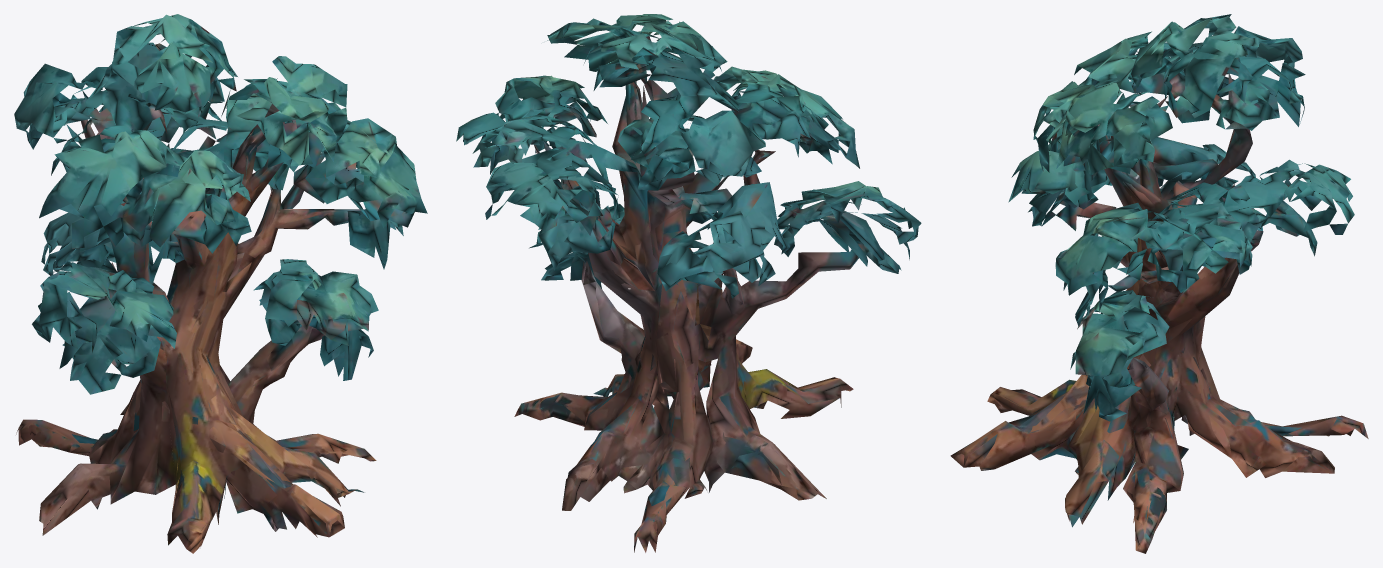
The model's file is tree_darkwood_oak.glb.
3 views of the same model, side by side, from view 1: azimuth 30°, elevation 25°; view 2: azimuth 150°, elevation 25°; view 3: azimuth 270°, elevation 25° (orthographic). The views are drawn at different scales.
Parts seen in each view (by area): view 1: BakeLow; view 2: BakeLow; view 3: BakeLow.
Boxes of the visible parts, box(x1,y1,x2,y2) form: BakeLow: box(14, 14, 427, 553); BakeLow: box(456, 14, 921, 552); BakeLow: box(950, 14, 1368, 553).
Bounding box in the file's own units: 0.7164 × 0.7924 × 0.6606.
1 material, 1 textured.
